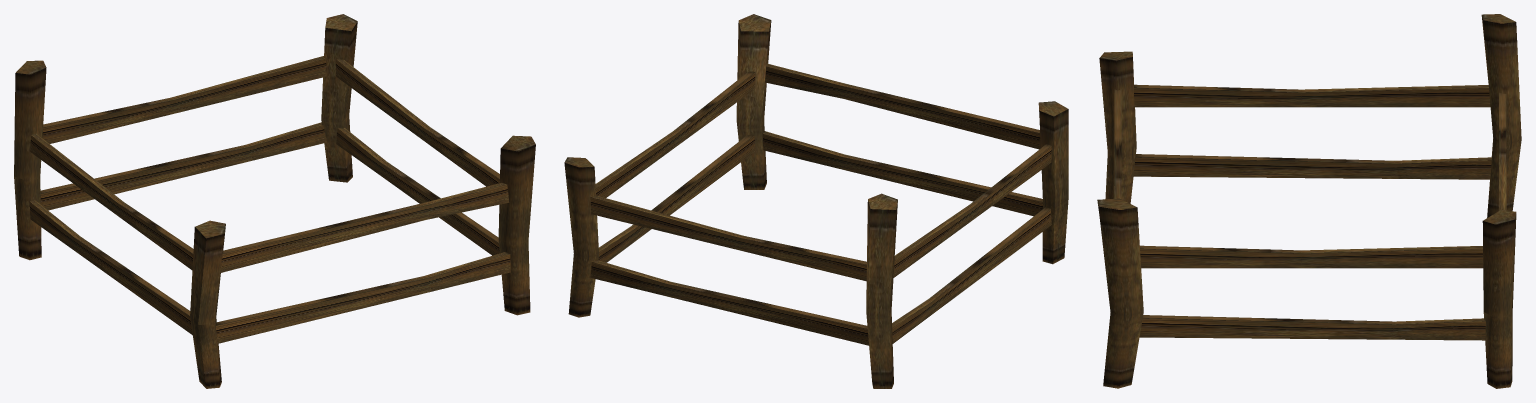
The model's file is pig_pen.fbx.
3 renders of one model, left to right at view 1: azimuth 30°, elevation 25°; view 2: azimuth 150°, elevation 25°; view 3: azimuth 270°, elevation 25°, orthographic. The views are drawn at different scales.
Parts seen in each view (by area): view 1: nurbsToPoly13, nurbsToPoly18, nurbsToPoly14, nurbsToPoly15, nurbsToPoly9, nurbsToPoly20, nurbsToPoly19, nurbsToPoly21, nurbsToPoly16, nurbsToPoly17, nurbsToPoly10, nurbsToPoly11; view 2: nurbsToPoly14, nurbsToPoly15, nurbsToPoly18, nurbsToPoly20, nurbsToPoly13, nurbsToPoly9, nurbsToPoly21, nurbsToPoly19, nurbsToPoly17, nurbsToPoly16, nurbsToPoly10, nurbsToPoly11 (+1 smaller); view 3: nurbsToPoly17, nurbsToPoly16, nurbsToPoly10, nurbsToPoly11, nurbsToPoly9, nurbsToPoly21, nurbsToPoly20, nurbsToPoly19, nurbsToPoly18, nurbsToPoly14.
Part boxes in pixels (x1,y1,x2,y2): nurbsToPoly13: (215, 252, 510, 343); nurbsToPoly18: (220, 183, 509, 272); nurbsToPoly14: (42, 56, 326, 143); nurbsToPoly15: (40, 122, 326, 210); nurbsToPoly9: (498, 144, 535, 315); nurbsToPoly20: (14, 67, 46, 260); nurbsToPoly19: (190, 227, 225, 388); nurbsToPoly21: (321, 22, 357, 182); nurbsToPoly16: (30, 133, 193, 270); nurbsToPoly17: (29, 200, 192, 334); nurbsToPoly10: (335, 59, 499, 186); nurbsToPoly11: (336, 128, 499, 255); nurbsToPoly14: (590, 195, 866, 281); nurbsToPoly15: (590, 260, 868, 345); nurbsToPoly18: (765, 63, 1040, 149); nurbsToPoly20: (866, 200, 897, 388); nurbsToPoly13: (762, 131, 1042, 216); nurbsToPoly9: (736, 21, 771, 189); nurbsToPoly21: (564, 163, 598, 317); nurbsToPoly19: (1039, 109, 1068, 264); nurbsToPoly17: (892, 207, 1051, 343); nurbsToPoly16: (893, 144, 1051, 277); nurbsToPoly10: (595, 71, 755, 197); nurbsToPoly11: (598, 135, 755, 262); nurbsToPoly17: (1133, 154, 1491, 179); nurbsToPoly16: (1133, 84, 1490, 107); nurbsToPoly10: (1140, 245, 1483, 268); nurbsToPoly11: (1139, 315, 1485, 340); nurbsToPoly9: (1097, 203, 1143, 388); nurbsToPoly21: (1482, 214, 1516, 388); nurbsToPoly20: (1481, 15, 1521, 217); nurbsToPoly19: (1099, 57, 1136, 203); nurbsToPoly18: (1113, 89, 1121, 199); nurbsToPoly14: (1499, 92, 1506, 210).
Size of the model in its own units: 1336 by 714 by 1342.
Materials: 1 (1 with a texture image).
